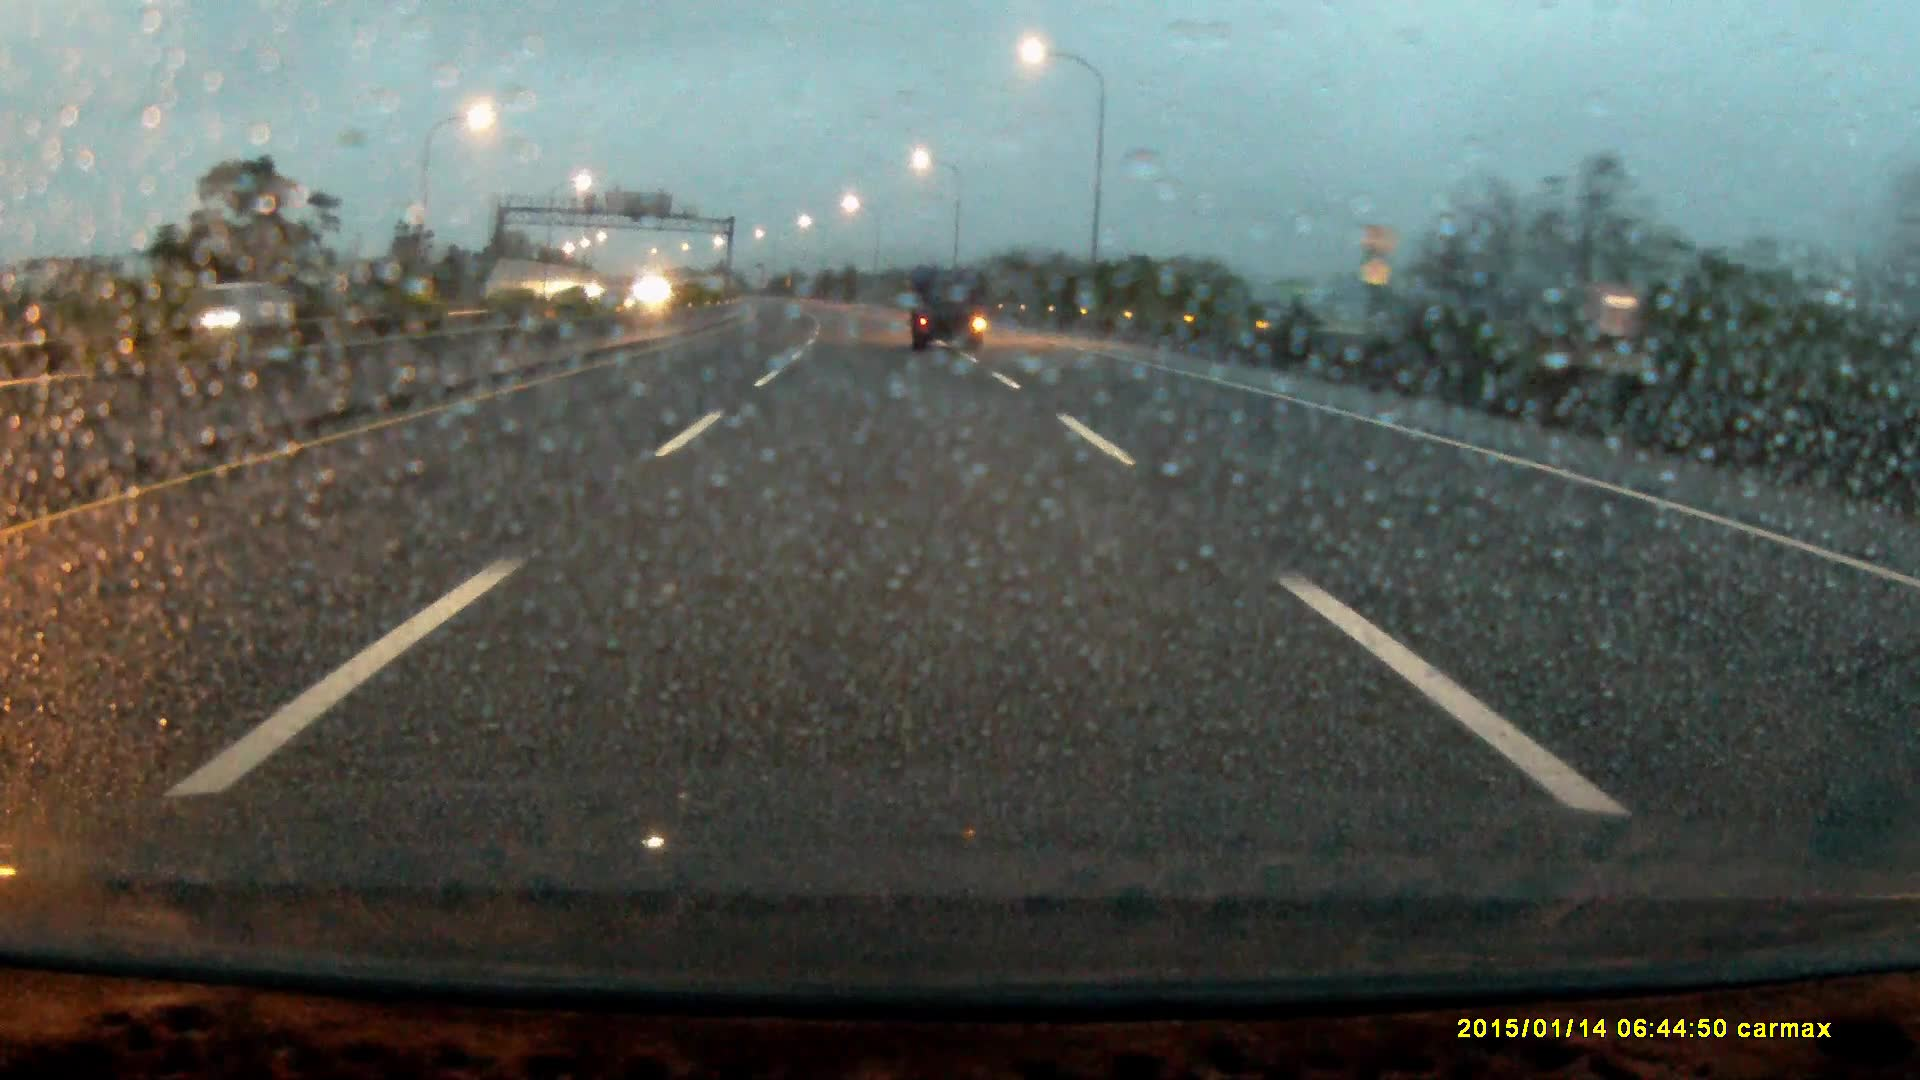vehicle: (910, 272, 988, 356)
